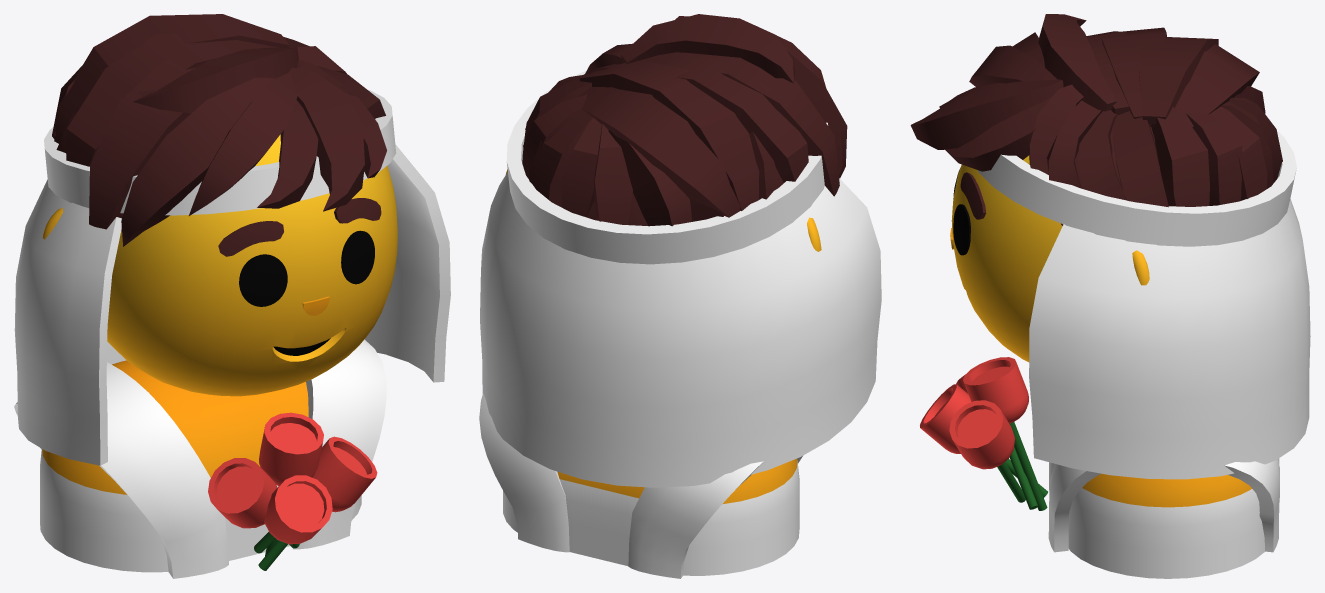
The model's file is person_with_veil.fbx.
The picture shows the model from 3 angles, left to right: view 1: azimuth 30°, elevation 25°; view 2: azimuth 150°, elevation 25°; view 3: azimuth 270°, elevation 25°; orthographic projection. The views are drawn at different scales.
Parts seen in each view (by area): view 1: Cube.2185, Roundcube.175, Sphere.147, Sphere.146, Sphere.145, Cylinder.146, Circle.879, Circle.881; view 2: Sphere.147, Cube.2185, Sphere.146, Sphere.145; view 3: Sphere.147, Cube.2185, Sphere.145, Sphere.146, Roundcube.175, Cylinder.146, Circle.879, Circle.881.
Boxes of the visible parts, bbox=[...] form: Cube.2185: bbox=[52, 14, 386, 246]; Roundcube.175: bbox=[107, 134, 397, 396]; Sphere.147: bbox=[14, 144, 450, 465]; Sphere.146: bbox=[14, 89, 396, 578]; Sphere.145: bbox=[40, 360, 361, 572]; Cylinder.146: bbox=[208, 412, 377, 570]; Circle.879: bbox=[239, 230, 374, 306]; Circle.881: bbox=[218, 198, 381, 256]; Sphere.147: bbox=[480, 172, 881, 487]; Cube.2185: bbox=[522, 14, 847, 226]; Sphere.146: bbox=[479, 70, 828, 578]; Sphere.145: bbox=[503, 458, 799, 575]; Sphere.147: bbox=[1029, 199, 1310, 479]; Cube.2185: bbox=[910, 14, 1282, 225]; Sphere.145: bbox=[1068, 474, 1264, 578]; Sphere.146: bbox=[977, 131, 1296, 552]; Roundcube.175: bbox=[951, 124, 1159, 362]; Cylinder.146: bbox=[920, 357, 1047, 510]; Circle.879: bbox=[953, 168, 970, 255]; Circle.881: bbox=[960, 172, 986, 219].
Bounding box in the file's own units: 196 × 248 × 190.
Materials: 2 (2 with a texture image).
